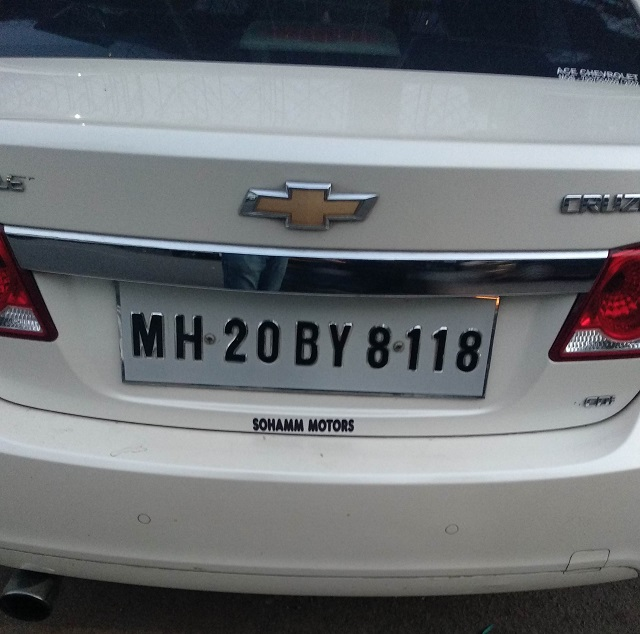licenseplate: (105, 274, 498, 403)
